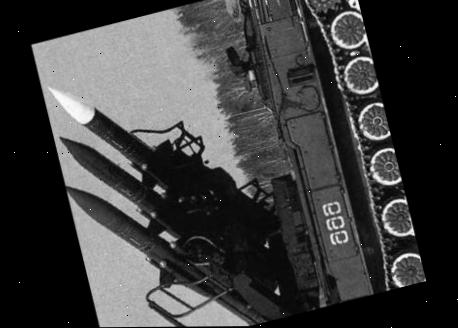rszo: (28, 0, 428, 328)
